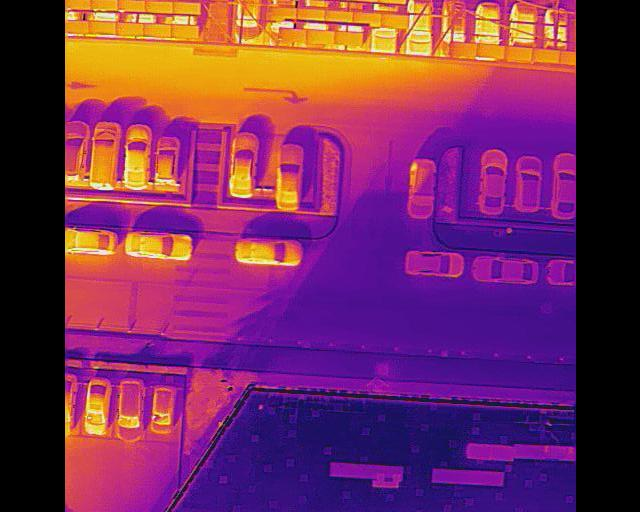Cell: (278, 29, 306, 43), (118, 0, 146, 12), (65, 0, 89, 10)
Cell-Multi: (90, 0, 117, 11)
No-Anomaly: (531, 48, 560, 63), (380, 13, 408, 28), (476, 44, 504, 59), (504, 47, 531, 62), (87, 21, 115, 35), (114, 23, 143, 36), (450, 42, 476, 56), (333, 32, 361, 45), (143, 24, 170, 37), (144, 1, 173, 13), (325, 10, 352, 22), (306, 31, 333, 43), (173, 2, 200, 14), (170, 26, 197, 38), (295, 9, 324, 20), (352, 12, 380, 23), (376, 0, 405, 4)
